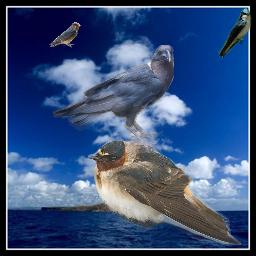Crow: (53, 45, 174, 153)
Swallow: (88, 140, 241, 245), (218, 8, 252, 59), (49, 22, 81, 48)
